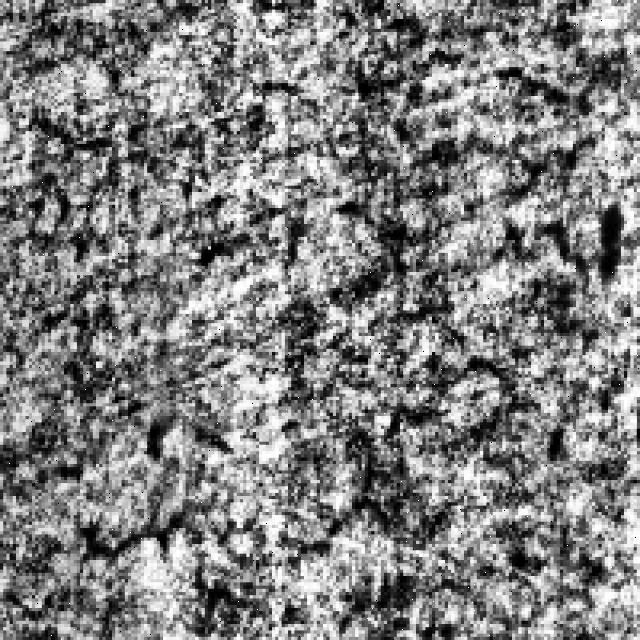Pitted_Surface: (323, 0, 588, 550), (22, 348, 509, 586), (0, 96, 458, 301)
